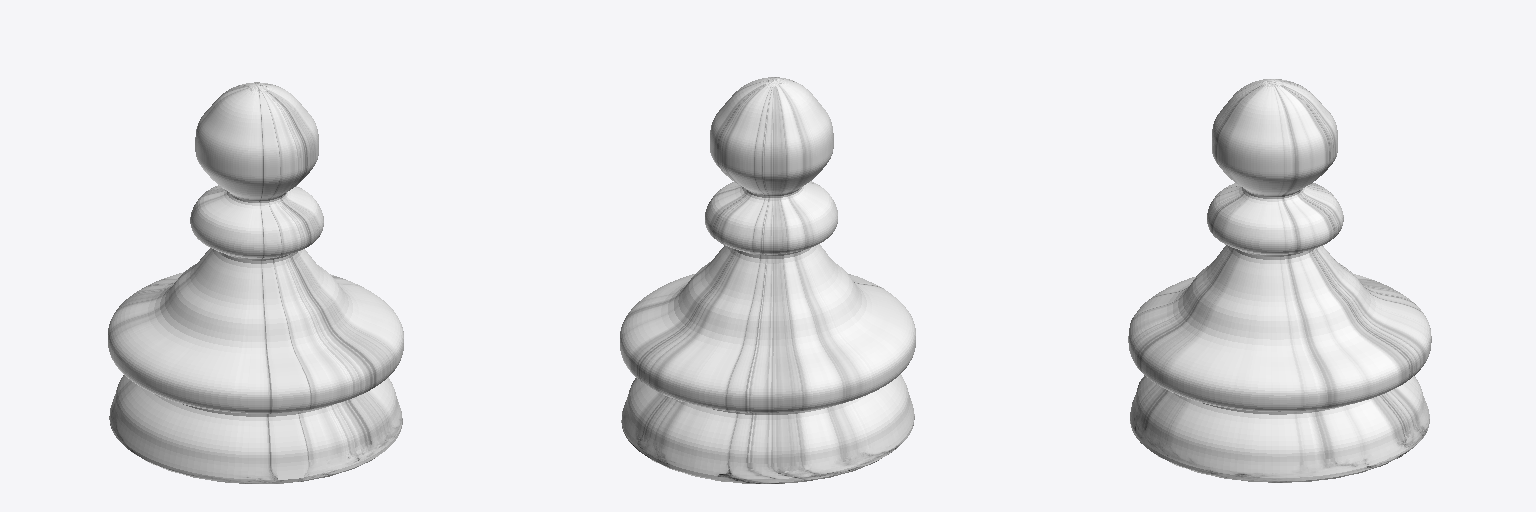
3 views of the same model, side by side, from view 1: azimuth 30°, elevation 25°; view 2: azimuth 150°, elevation 25°; view 3: azimuth 270°, elevation 25° (orthographic).
Visible parts, largest first — view 1: Cylinder; view 2: Cylinder; view 3: Cylinder.
Boxes of the visible parts, x1=… form: Cylinder: x1=108, y1=82, x2=403, y2=483; Cylinder: x1=620, y1=77, x2=915, y2=483; Cylinder: x1=1128, y1=79, x2=1431, y2=482.
Bounding box in the file's own units: 1.75 × 2.27 × 1.8.
1 materials, 1 textured.